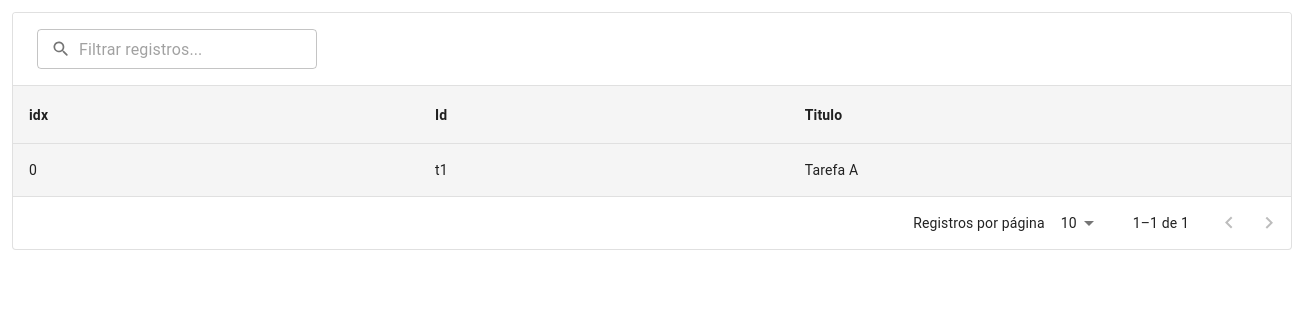
Scenario: ExternalScreen — master/detail (st-10) › detailDataPath extrai campo aninhado da resposta de detalhe
Click the text "Tarefa A": (1040, 171) [789,144,1291,197]
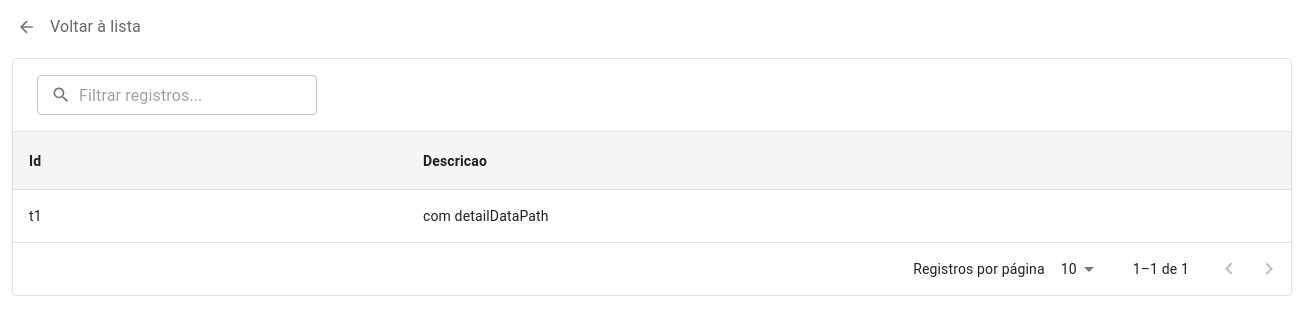
Check: the text "com detailDataPath" is shown, box [407,190,1291,243]
